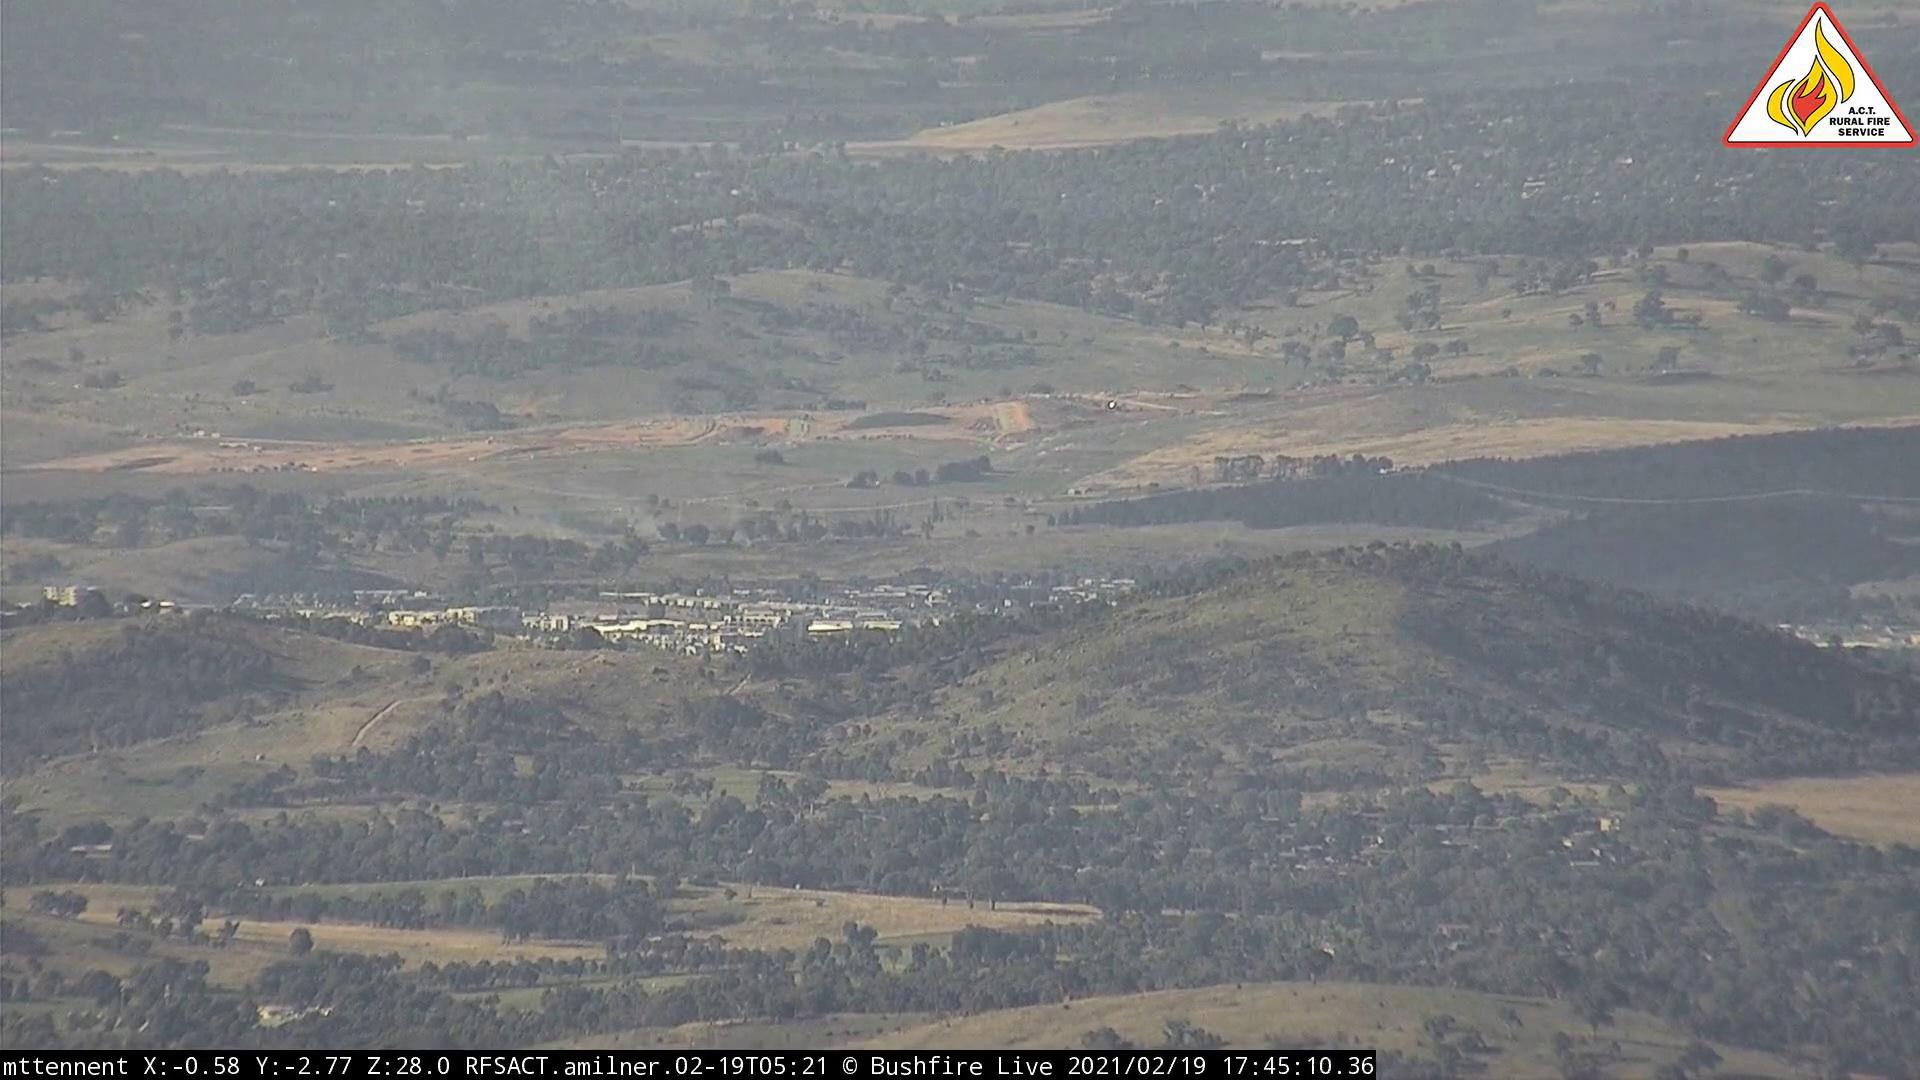Smoke: (578, 480, 765, 553)
